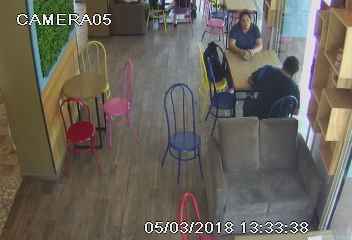libre: (59, 40, 128, 148)
ocupado: (193, 14, 293, 112)
